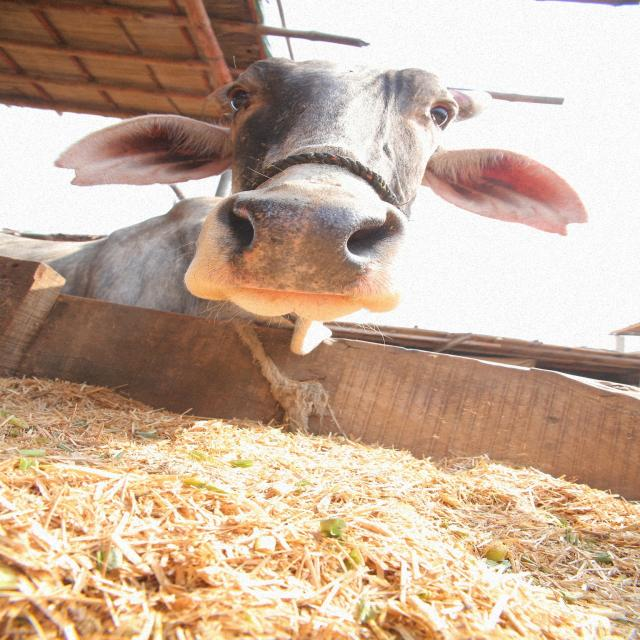muzzles: (211, 187, 401, 300)
